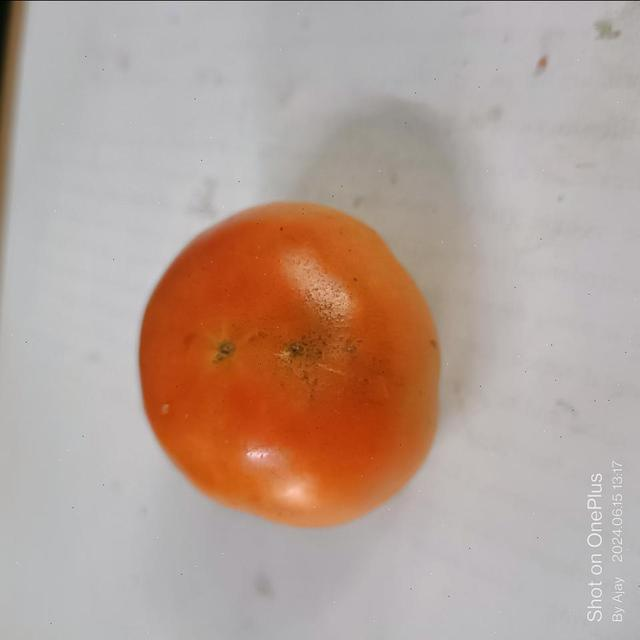Bacterial Spot Fruit: (12, 14, 194, 236)
